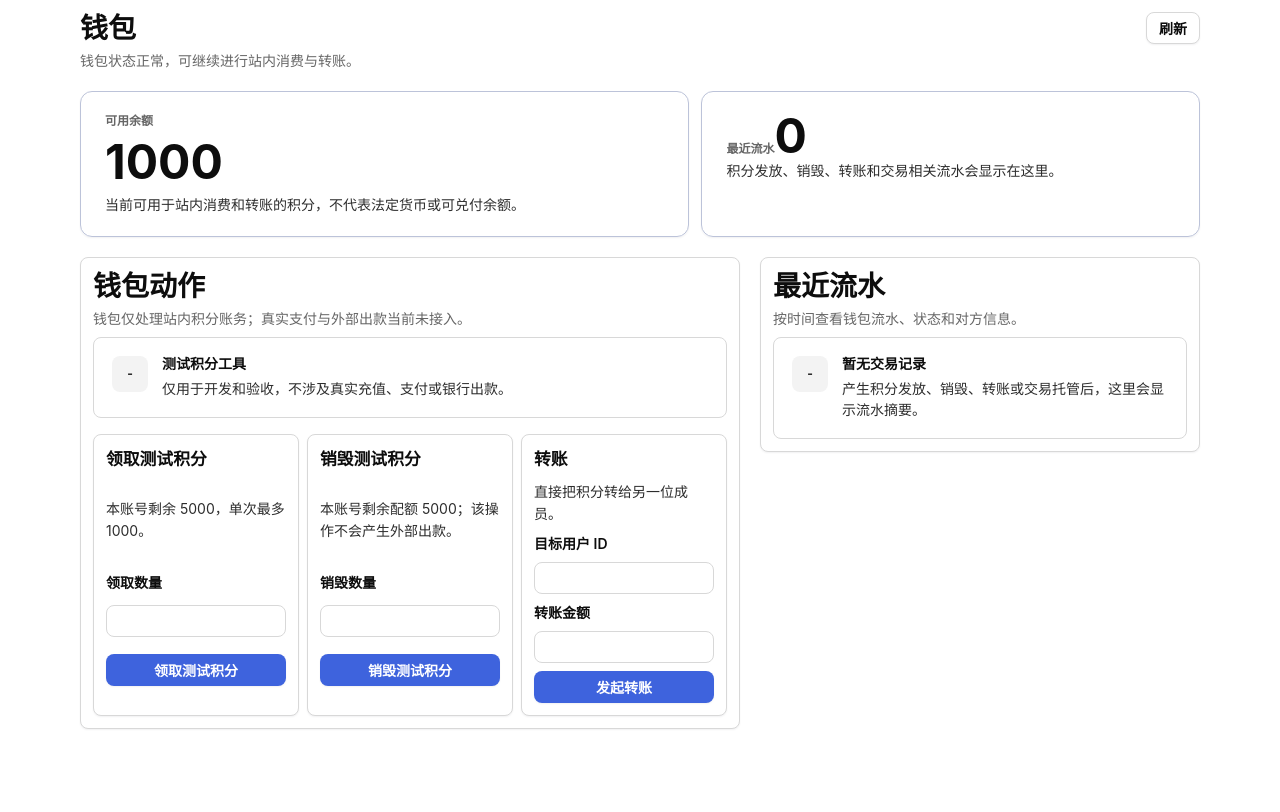
WalletView › rejects a decimal transfer amount before opening the confirmation
Type "11111111-1111-7111-8111-111111111111" into the field labelled "目标用户 ID".
click(624, 578); type("11111111-1111-7111-8111-111111111111")  # box 534,562 -> 714,594
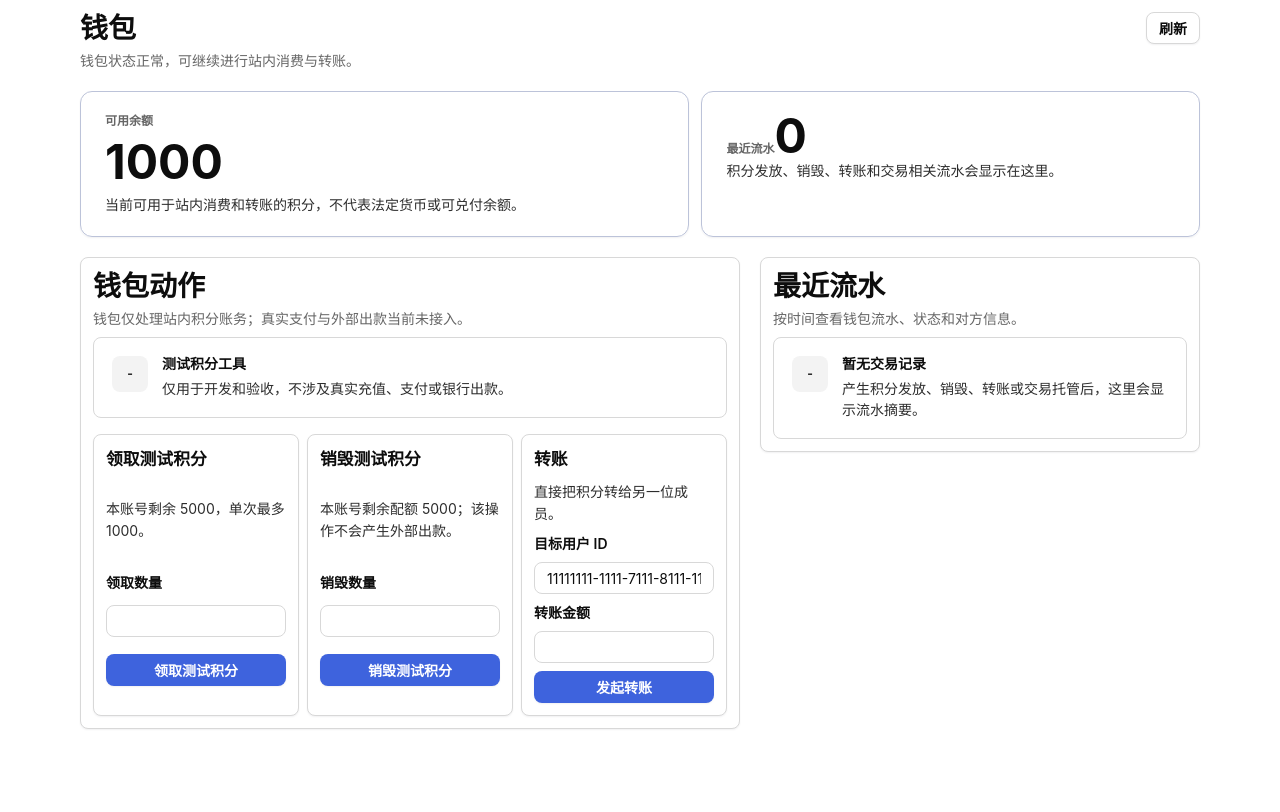
Type "1.5" into the number field labelled "转账金额".
click(624, 647); type("1.5")  # box 534,631 -> 714,663
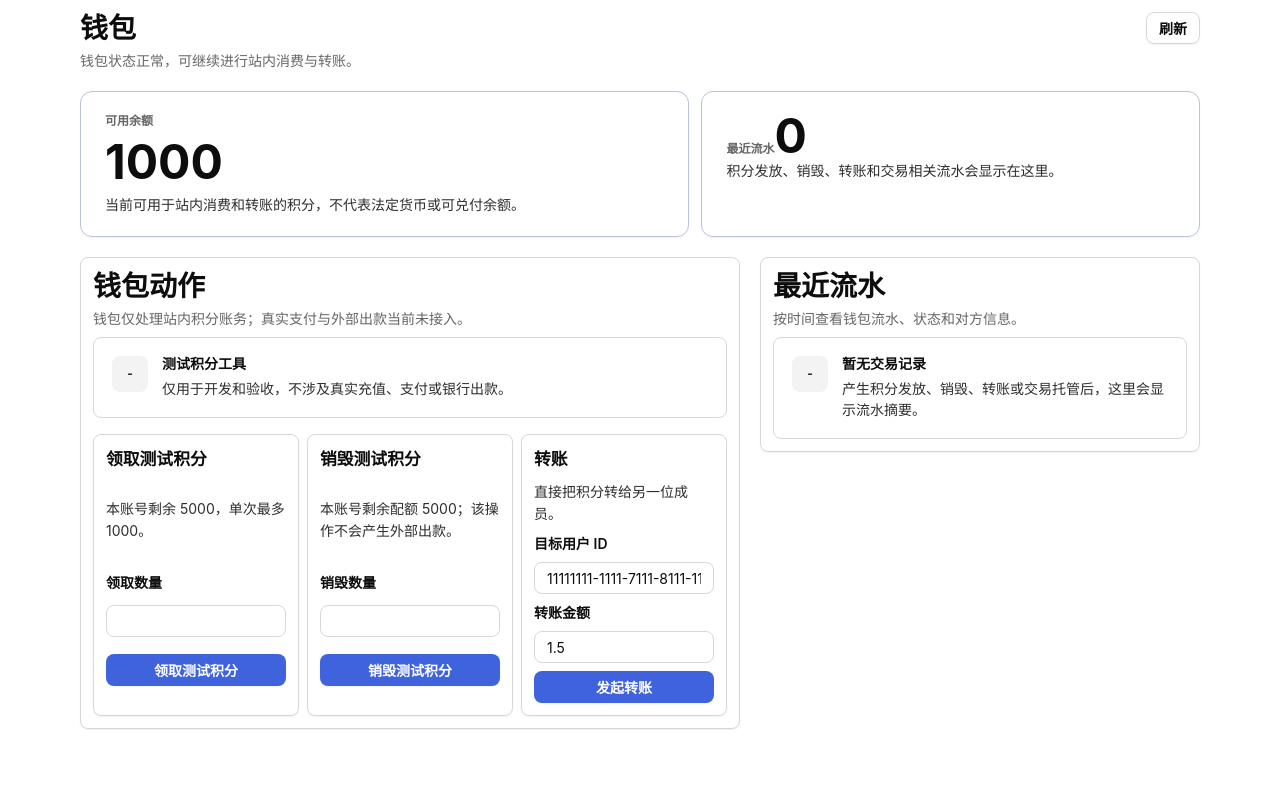
Click the button "发起转账".
click(624, 687)  # box 534,671 -> 714,703
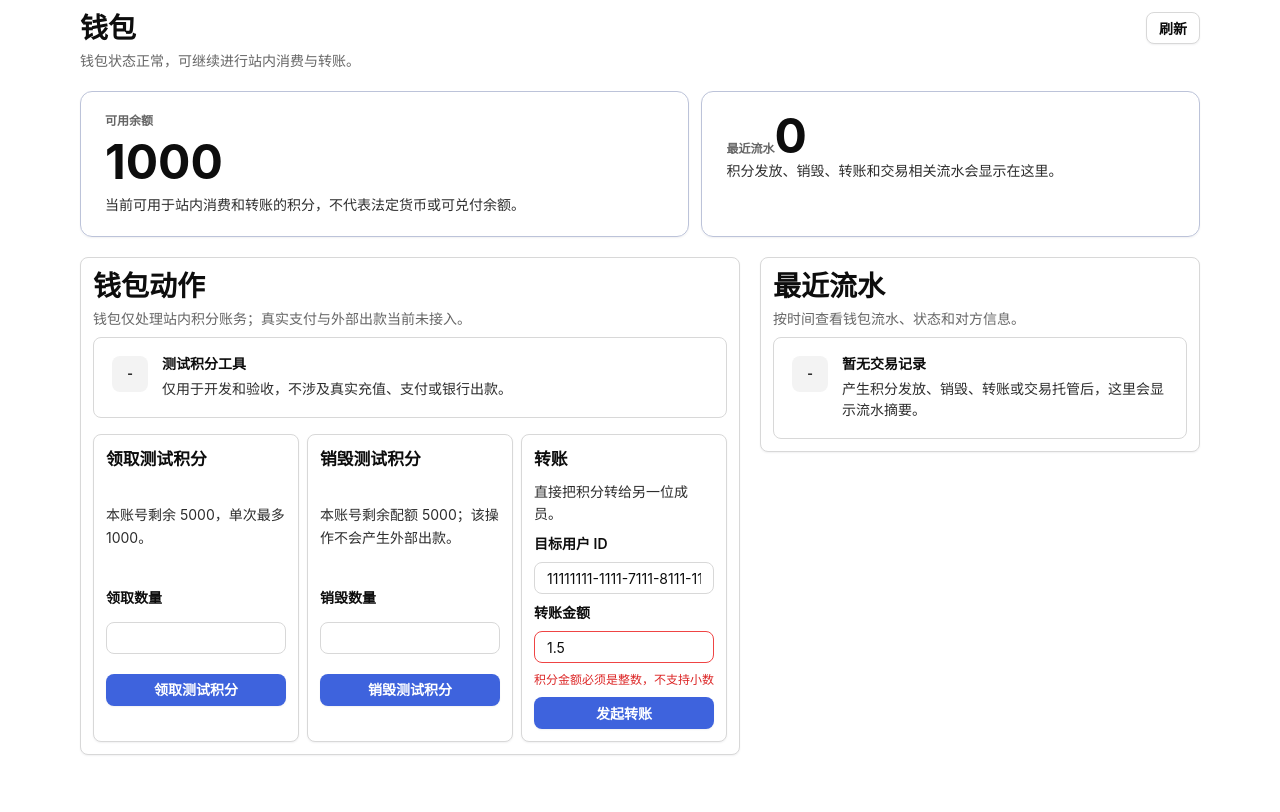
Check: the text "积分金额必须是整数，不支持小数" is shown, box 534,671 -> 714,689
